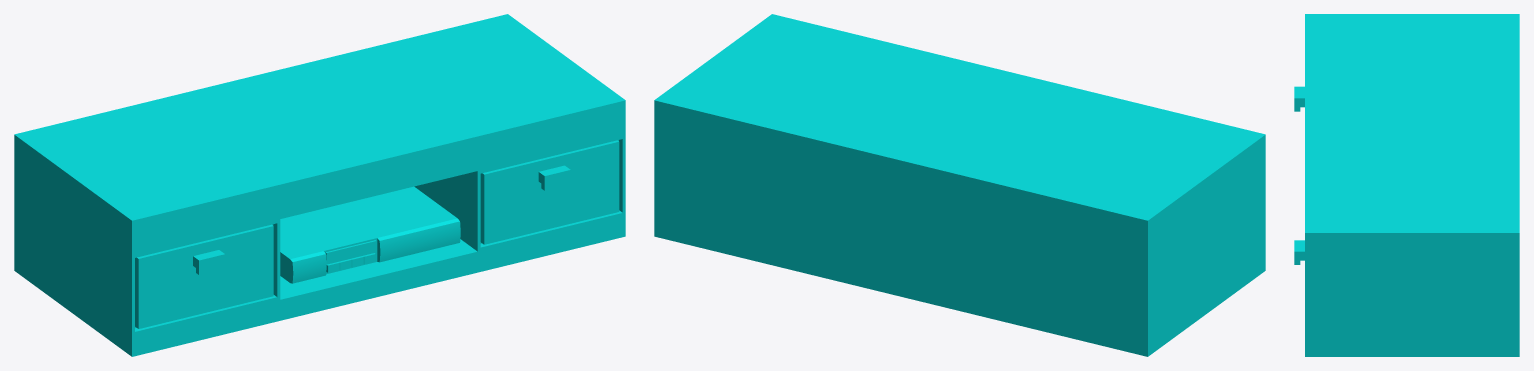
The model's file is dvd.fbx.
3 renders of one model, left to right at view 1: azimuth 30°, elevation 25°; view 2: azimuth 150°, elevation 25°; view 3: azimuth 270°, elevation 25°, orthographic. The views are drawn at different scales.
Parts seen in each view (by area): view 1: pCube170; view 2: pCube170; view 3: pCube170.
Part boxes in pixels (x1,y1,x2,y2): pCube170: [14, 14, 625, 356]; pCube170: [654, 14, 1265, 356]; pCube170: [1294, 14, 1519, 356].
Bounding box in the file's own units: 6.98 × 1.84 × 3.03.
